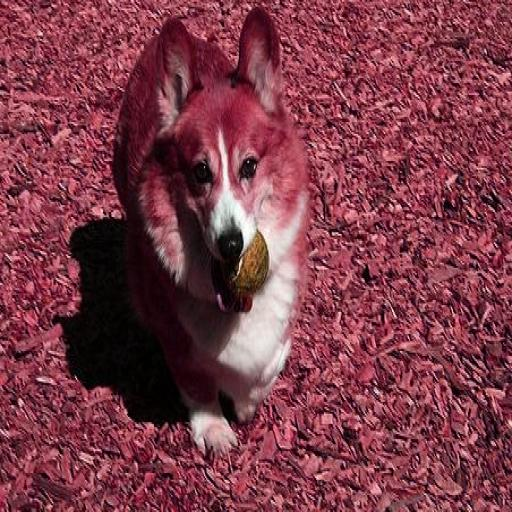dog_face: (142, 5, 293, 270)
